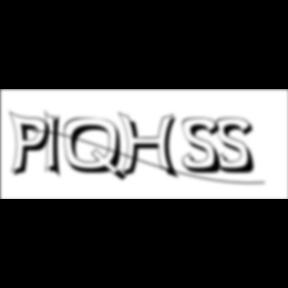H: (118, 112, 184, 182)
P: (9, 110, 56, 180)
Q: (64, 117, 130, 184)
S: (182, 117, 228, 176), (215, 117, 261, 176)
l: (44, 108, 68, 182)
